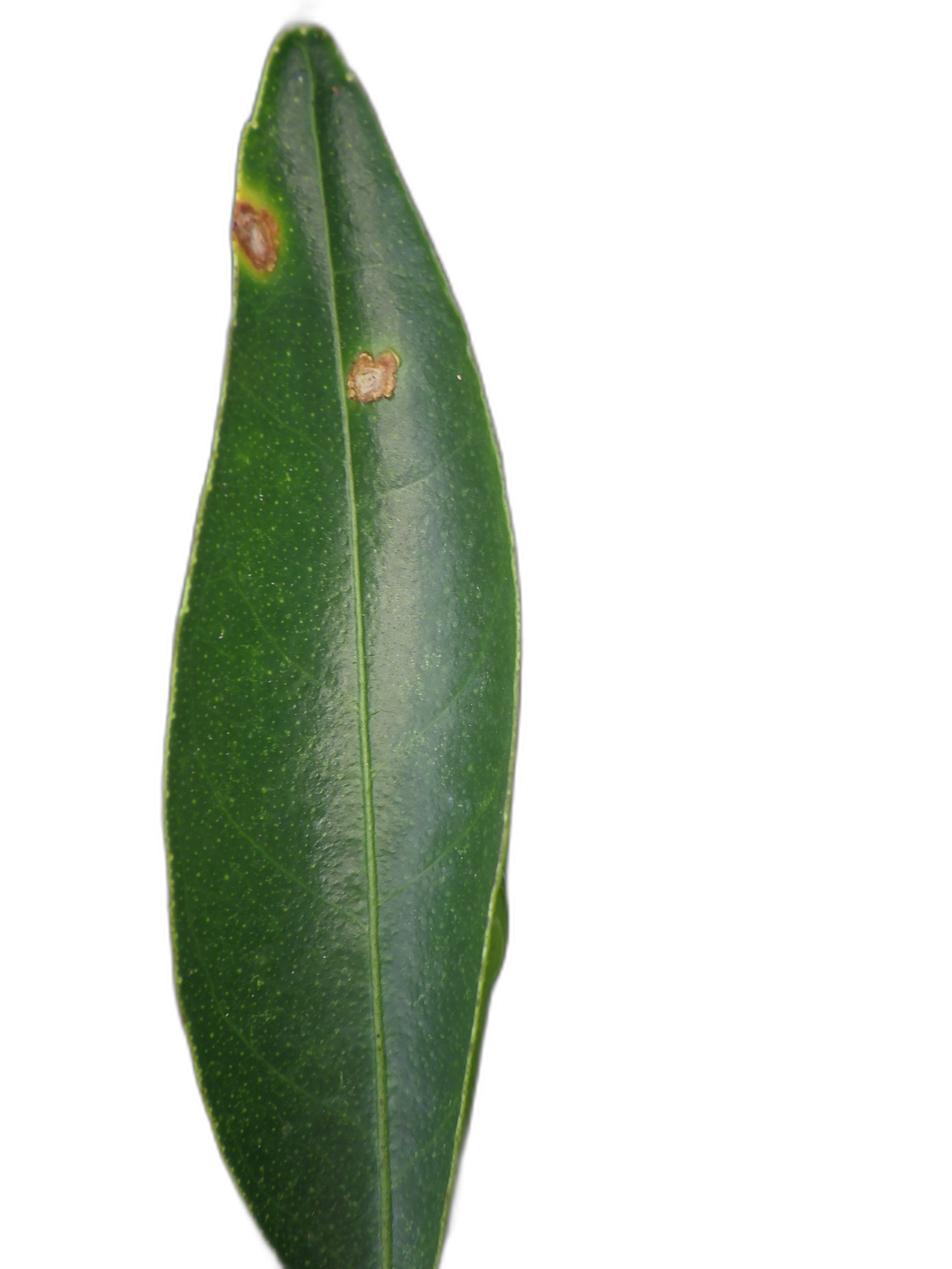Canker: (233, 200, 278, 271), (346, 351, 399, 403)
